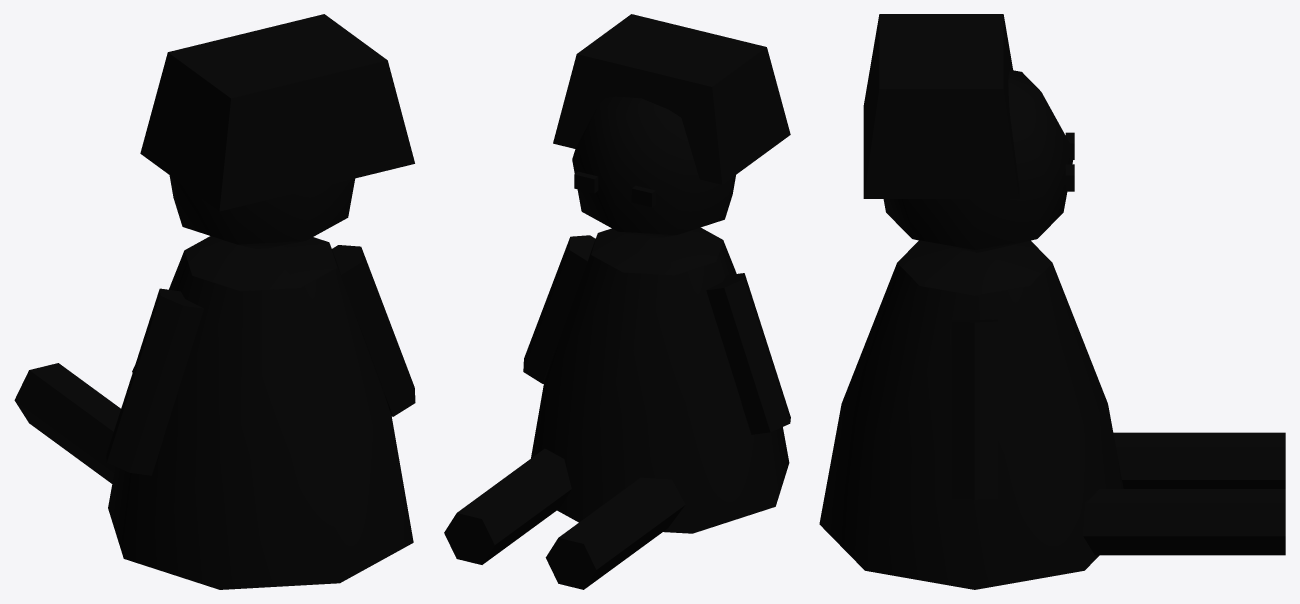
The model's file is SM_doll_broken.fbx.
The picture shows the model from 3 angles, left to right: view 1: azimuth 30°, elevation 25°; view 2: azimuth 150°, elevation 25°; view 3: azimuth 270°, elevation 25°; orthographic projection. The views are drawn at different scales.
Visible parts, largest first — view 1: doll_broken, doll_broken_head; view 2: doll_broken, doll_broken_head; view 3: doll_broken, doll_broken_head.
Part boxes in pixels (<box>): doll_broken: <box>14,236,415,589</box>; doll_broken_head: <box>140,14,414,248</box>; doll_broken: <box>444,227,790,589</box>; doll_broken_head: <box>553,14,790,238</box>; doll_broken: <box>819,240,1285,589</box>; doll_broken_head: <box>863,14,1074,252</box>.
Size of the model in its own units: 0.1573 by 0.235 by 0.21.
